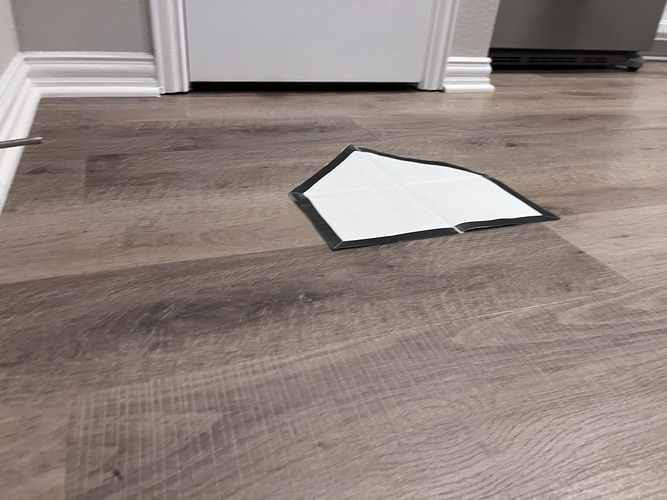homeplate: (289, 143, 560, 253)
